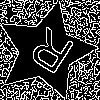R: (21, 26, 77, 84)
